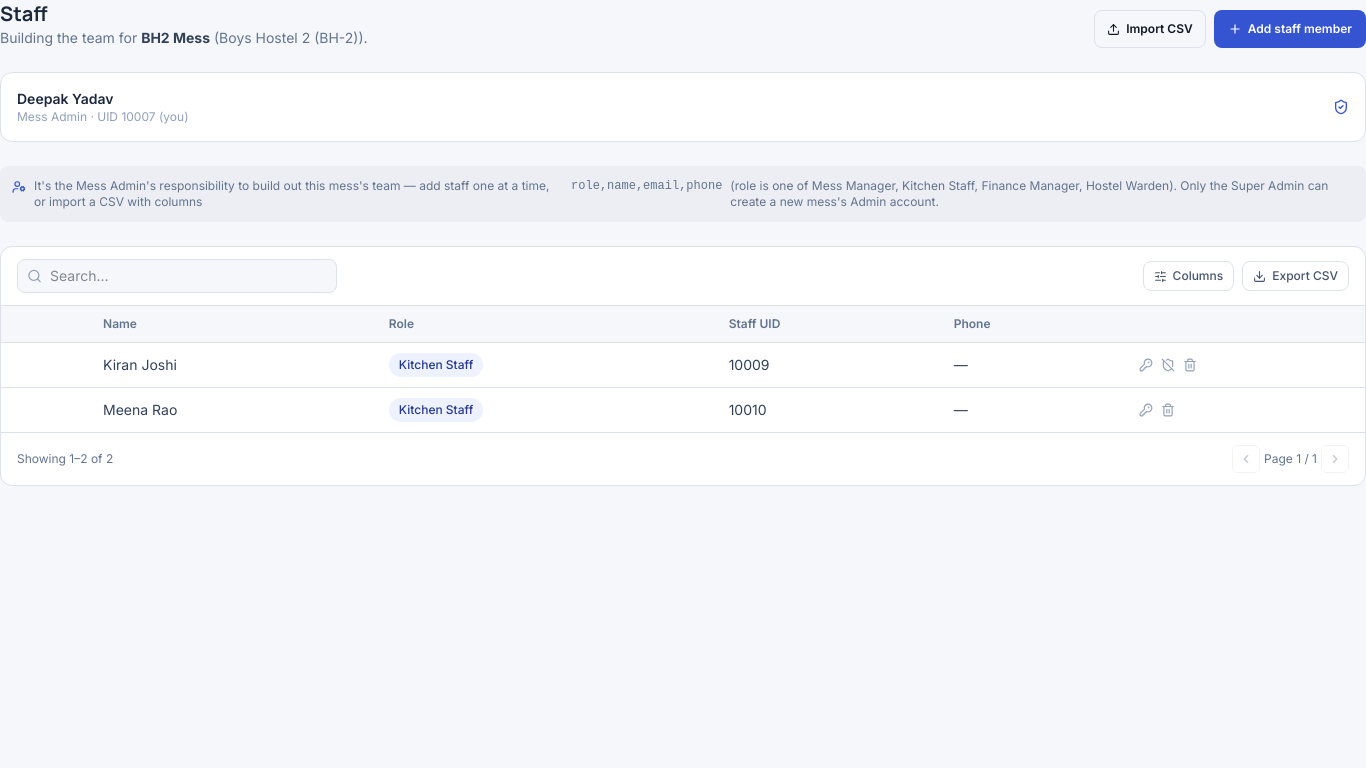
Test: Staff — resetting a lost authenticator › offers the reset only for people who actually have two-factor on, asks first, then resets and says what happens next
Expected: the text "Kiran Joshi" is shown, [87,342,373,388]
Click the button named "reset two-factor for kiran joshi" at [1168, 365], box [1161,358,1175,372]
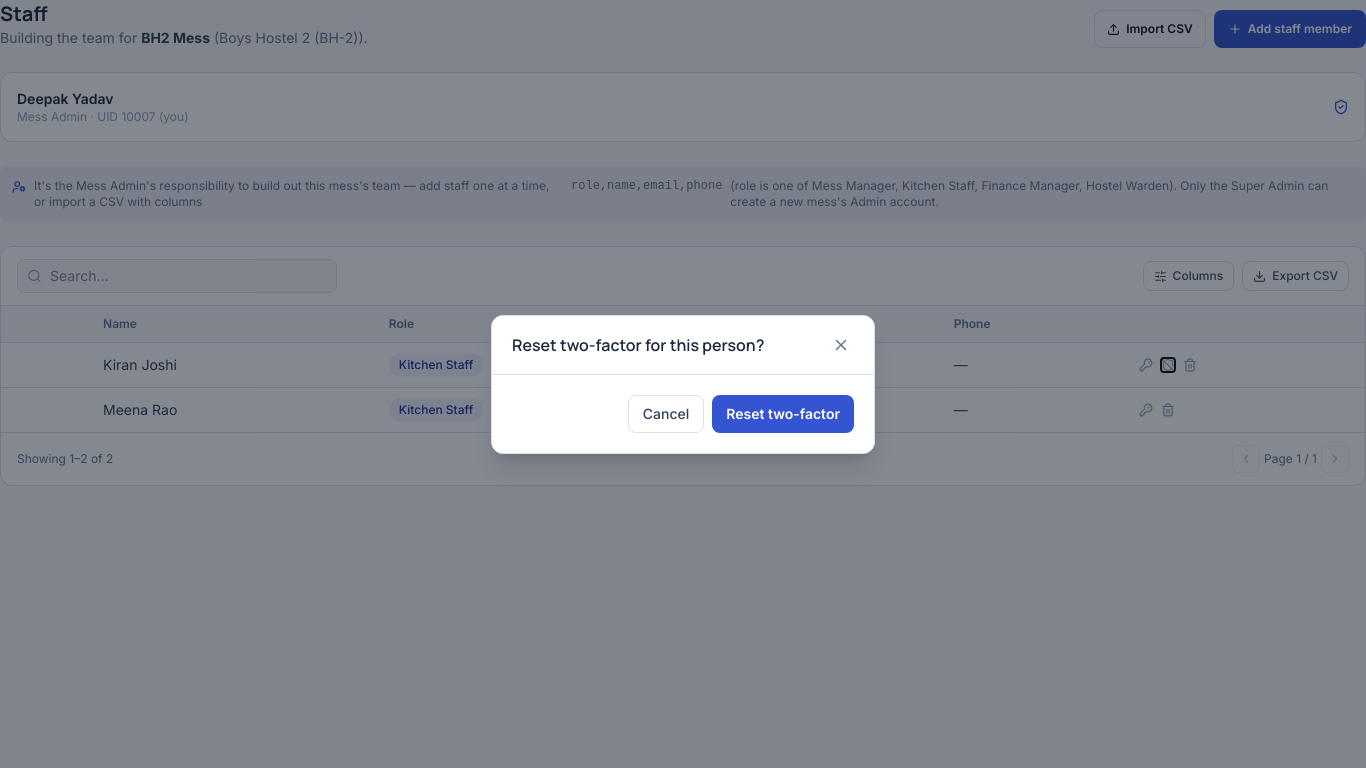
Click the button "Reset two-factor" at [783, 414], box [712,394,854,432]
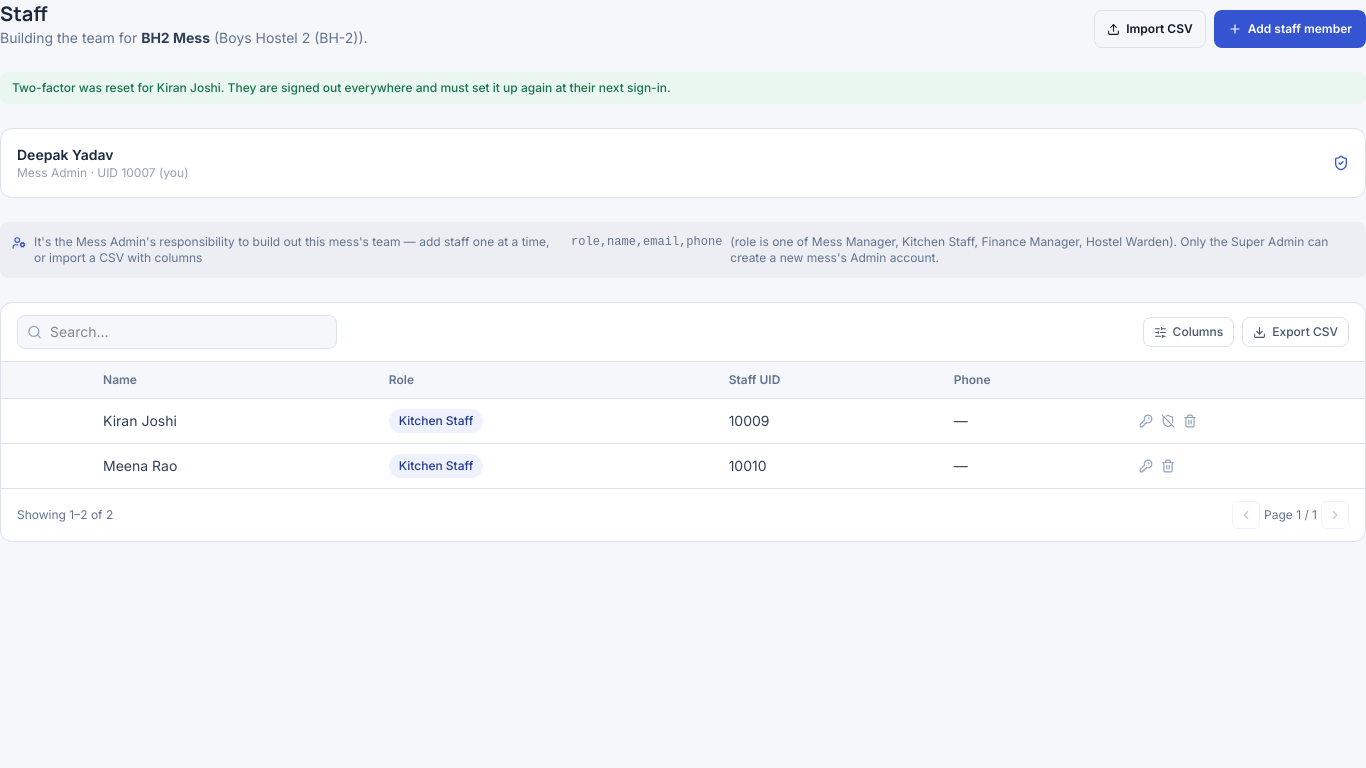
Expected: the element with test id "staff-import-result" shows "must set it up again at their next sign-in", [12,80,670,95]
